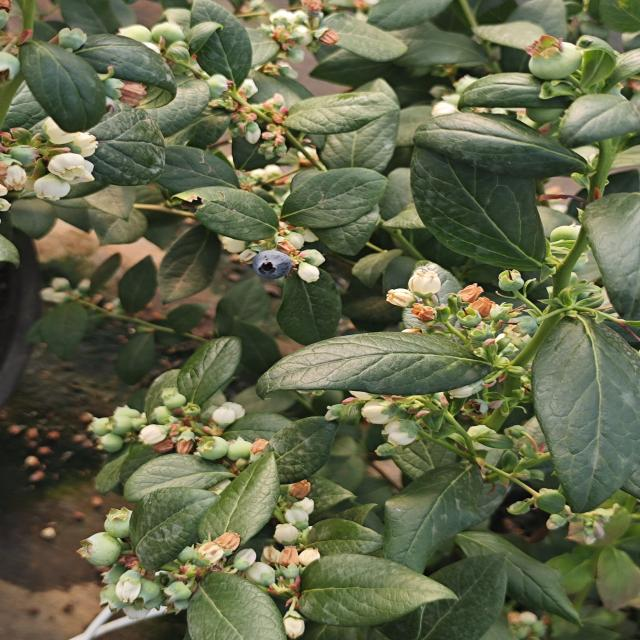ripe: (249, 248, 295, 282)
